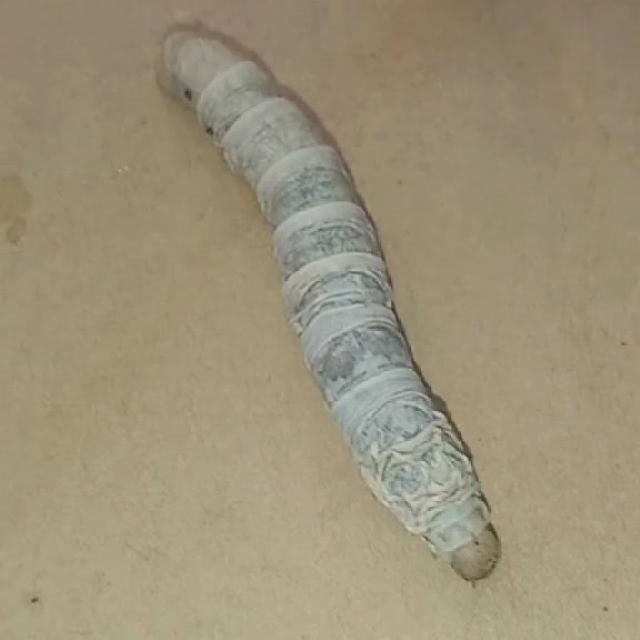Grasserie: (140, 1, 562, 584)
